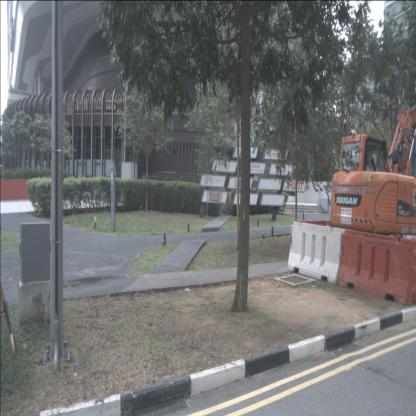barrier: (338, 230, 414, 306), (286, 221, 346, 285)
